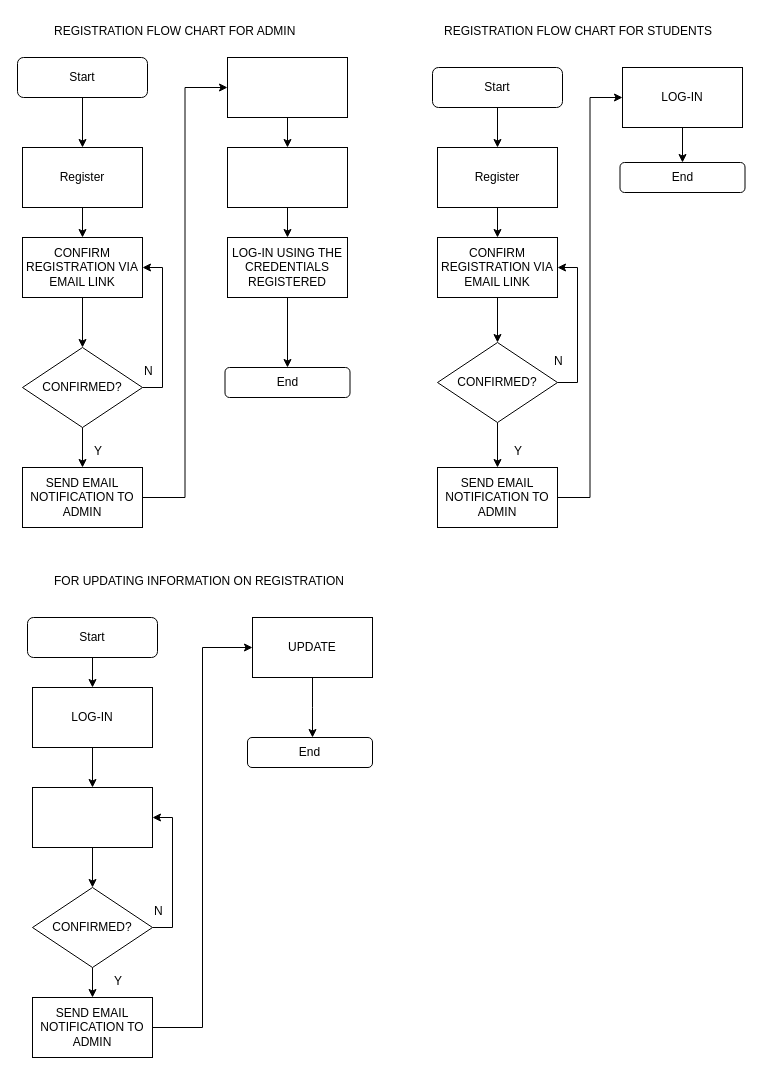
The diagram is 763 pixels wide and 1075 high, and some of its shapes have lost their labels. Here are the shapes that lost their labels. From the top down, the centre of each, then its label:
At (287,87): "ADMIN TO ASSIGN ROLES".
At (287,177): "NOTIFY USER FOR ACTIVATED ROLE".
At (92,817): "EDIT PROFILE".
